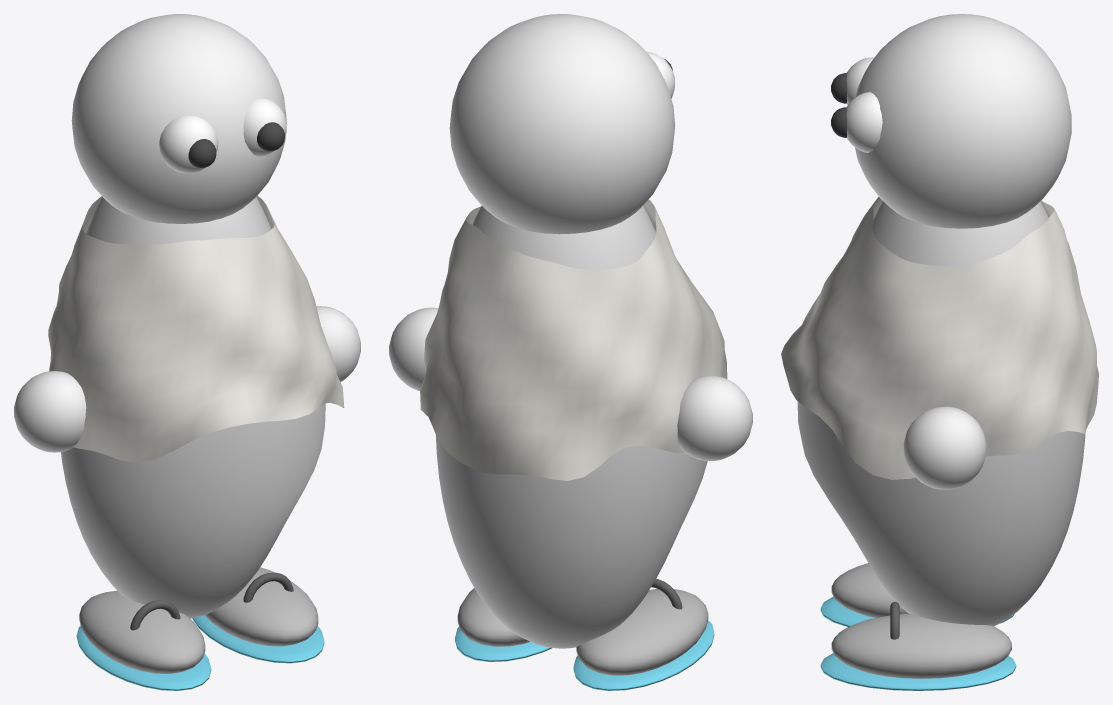
Rendered from blob_egg.glb.
3 views of the same model, side by side, from view 1: azimuth 30°, elevation 25°; view 2: azimuth 150°, elevation 25°; view 3: azimuth 270°, elevation 25° (orthographic). The views are drawn at different scales.
Visible parts, largest first — view 1: Singlet, Torso, Head, FootL, FootR, HandR, ThongL, ThongR, EyeL, HandL, EyeR, PupilL (+3 smaller); view 2: Singlet, Torso, Head, FootL, HandR, HandL, ThongL, FootR, ThongR; view 3: Singlet, Torso, Head, FootR, HandL, ThongR, FootL, EyeR, ThongL, EyeL.
Boxes of the visible parts, x1=… form: Singlet: x1=48, y1=196, x2=344, y2=462; Torso: x1=61, y1=197, x2=325, y2=618; Head: x1=71, y1=14, x2=286, y2=223; FootL: x1=79, y1=590, x2=205, y2=673; FootR: x1=204, y1=567, x2=318, y2=646; HandR: x1=14, y1=371, x2=86, y2=452; ThongL: x1=76, y1=626, x2=211, y2=690; ThongR: x1=192, y1=615, x2=324, y2=663; EyeL: x1=159, y1=115, x2=218, y2=173; HandL: x1=316, y1=306, x2=360, y2=381; EyeR: x1=243, y1=97, x2=286, y2=156; PupilL: x1=188, y1=139, x2=216, y2=167; Singlet: x1=420, y1=199, x2=727, y2=480; Torso: x1=436, y1=205, x2=707, y2=648; Head: x1=449, y1=14, x2=675, y2=234; FootL: x1=576, y1=589, x2=708, y2=675; HandR: x1=677, y1=375, x2=752, y2=460; HandL: x1=389, y1=307, x2=438, y2=391; ThongL: x1=573, y1=620, x2=714, y2=690; FootR: x1=457, y1=588, x2=530, y2=646; ThongR: x1=455, y1=627, x2=552, y2=661; Singlet: x1=781, y1=197, x2=1098, y2=479; Torso: x1=797, y1=201, x2=1085, y2=626; Head: x1=855, y1=14, x2=1071, y2=228; FootR: x1=831, y1=613, x2=1011, y2=678; HandL: x1=903, y1=406, x2=986, y2=489; ThongR: x1=820, y1=653, x2=1016, y2=690; FootL: x1=831, y1=563, x2=908, y2=617; EyeR: x1=846, y1=92, x2=882, y2=152; ThongL: x1=820, y1=596, x2=1014, y2=626; EyeL: x1=846, y1=57, x2=874, y2=104.
Bounding box in the file's own units: 1.19 × 2.05 × 0.9507.
